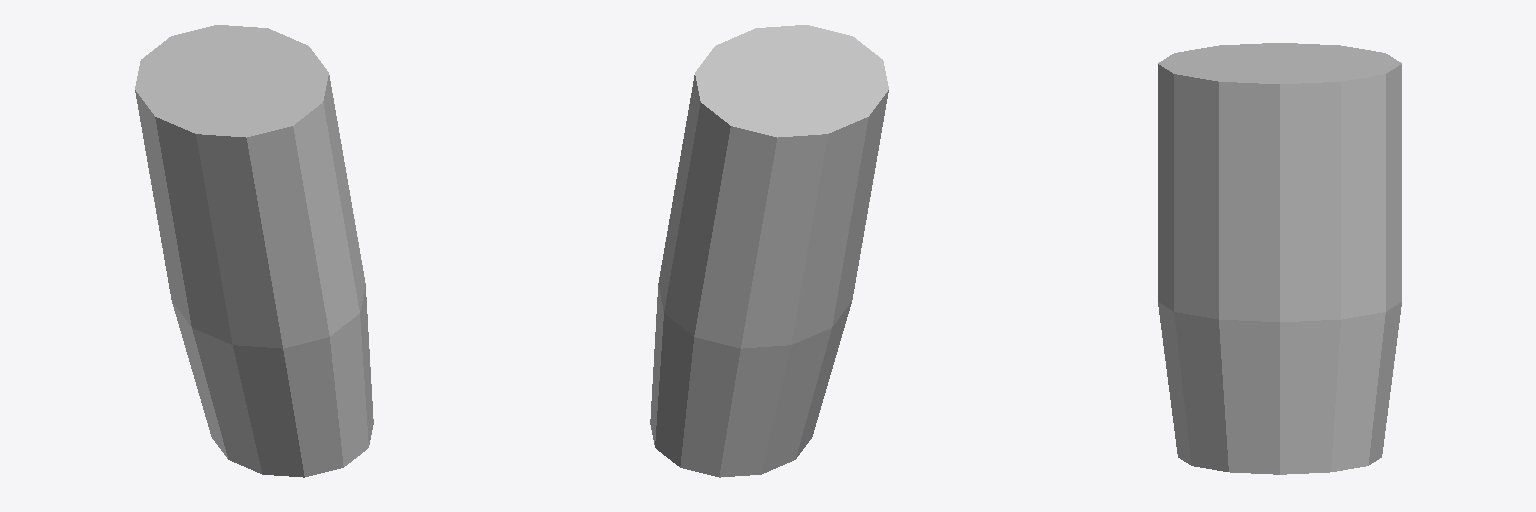
Rendered from UpperArm_L.obj.
The picture shows the model from 3 angles: view 1: azimuth 30°, elevation 25°; view 2: azimuth 150°, elevation 25°; view 3: azimuth 270°, elevation 25°; orthographic projection.
Visible parts, largest first — view 1: pCylinder16 UpperArm_L; view 2: pCylinder16 UpperArm_L; view 3: pCylinder16 UpperArm_L.
Part boxes in pixels (left/top/right/bottom): pCylinder16 UpperArm_L: left=135, top=25, right=373, bottom=477; pCylinder16 UpperArm_L: left=650, top=25, right=888, bottom=477; pCylinder16 UpperArm_L: left=1158, top=43, right=1401, bottom=474.
Bounding box in the file's own units: 0.8937 × 1.67 × 0.9381.